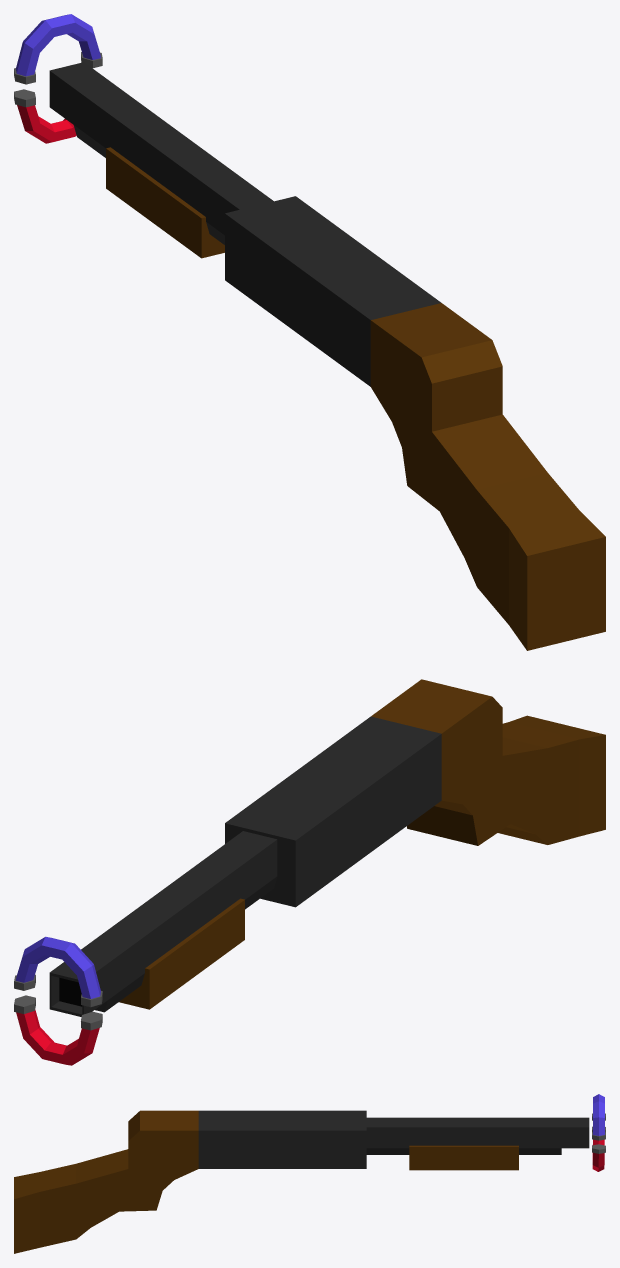
Rendered from Shotgun.fbx.
3 renders of one model, top to bottom at view 1: azimuth 30°, elevation 25°; view 2: azimuth 150°, elevation 25°; view 3: azimuth 270°, elevation 25°, orthographic. The views are drawn at different scales.
Parts seen in each view (by area): view 1: Cube, Torus.002, Torus.001; view 2: Cube, Torus.001, Torus.002; view 3: Cube, Torus.002, Torus.001.
Part boxes in pixels (x1,y1,x2,y2): Cube: [49, 62, 605, 650]; Torus.002: [14, 14, 102, 84]; Torus.001: [14, 89, 76, 143]; Cube: [49, 679, 605, 1016]; Torus.001: [14, 995, 102, 1065]; Torus.002: [14, 936, 102, 1007]; Cube: [14, 1110, 589, 1253]; Torus.002: [592, 1094, 605, 1140]; Torus.001: [592, 1126, 605, 1171].
Bounding box in the file's own units: 68.9 × 192 × 709.
